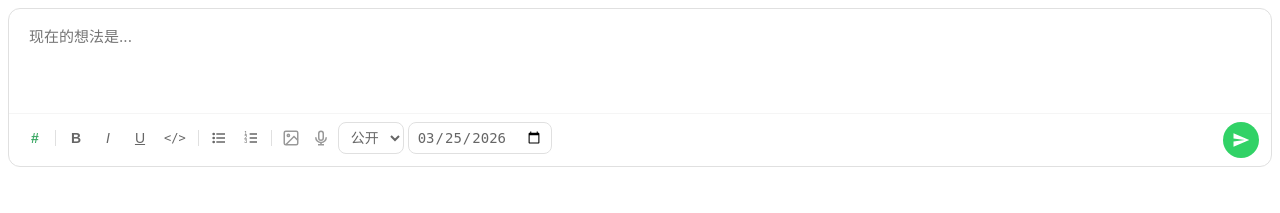
Test: MemoComposer › dismisses tag suggestions on Escape until the tag text changes
The width and height of the screenshot is (1280, 213).
Type "#" into the text box with placeholder "现在的想法是...".
click(640, 59); type("#")  # box 9,9 -> 1271,109
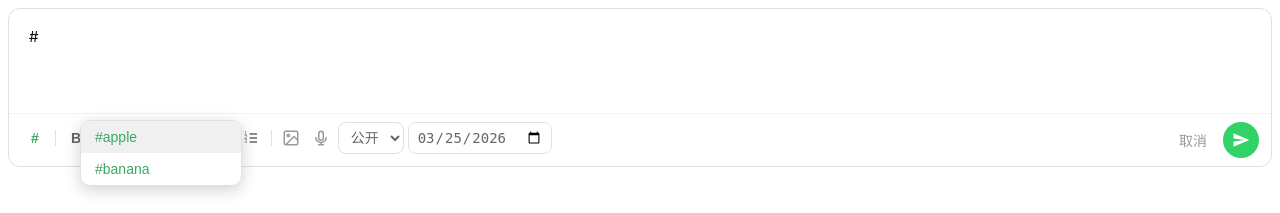
Expected: the button "#apple" is shown, 81,121 -> 241,153
Press Escape
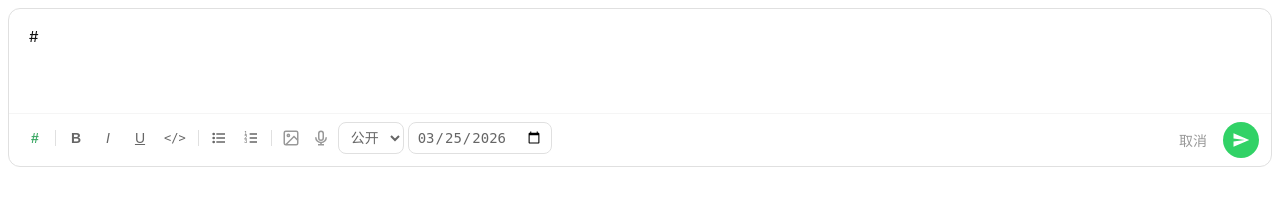
Expected: the button "#apple" is gone
Press a in the text box with placeholder "现在的想法是...", box 9,9 -> 1271,109
Expected: the button "#apple" is not shown
Replace the text in the text box with placeholder "现在的想法是..." with "#a" at coordinates (640, 59), box 9,9 -> 1271,109
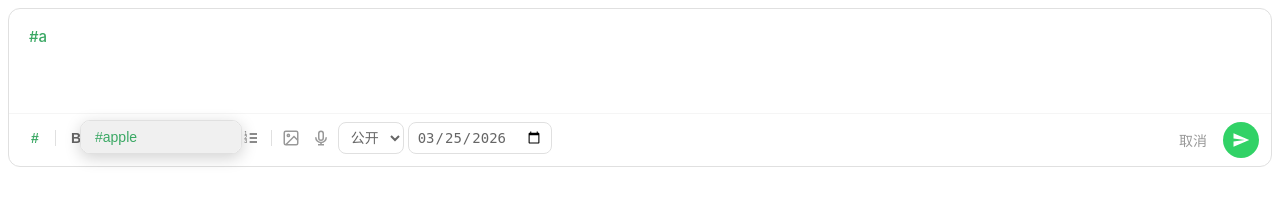
Expected: the button "#apple" is shown, 81,121 -> 241,153
